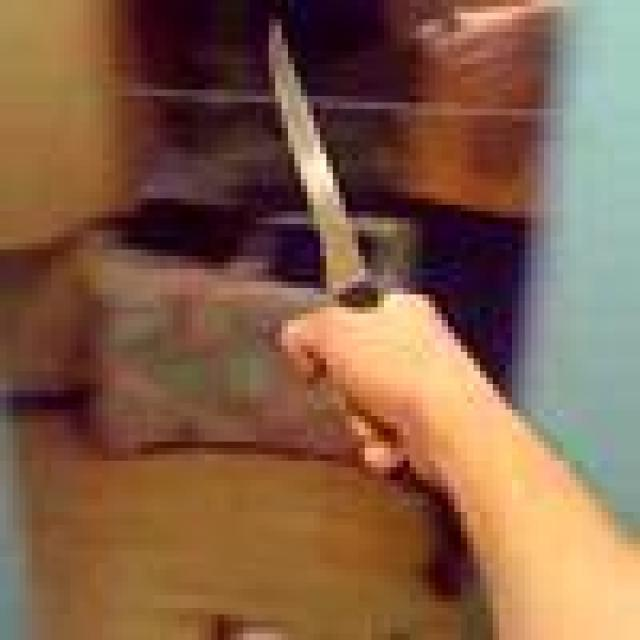faca: (230, 6, 480, 493)
